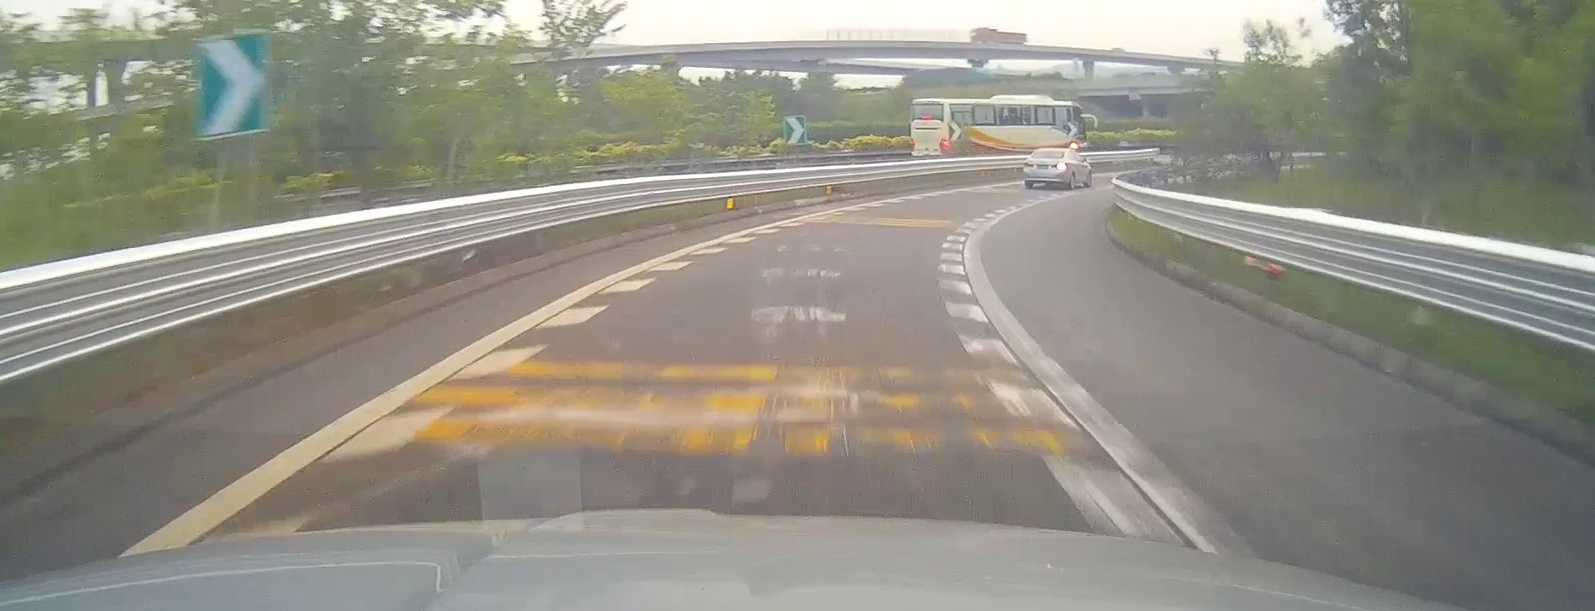L_light: (1024, 161, 1033, 168), (910, 139, 915, 151)
R_light: (1051, 163, 1067, 169), (942, 138, 949, 148)
T_light: (921, 116, 931, 120), (1047, 151, 1052, 152)
day-brake: (909, 98, 951, 157)
day-right: (1023, 148, 1068, 188)
